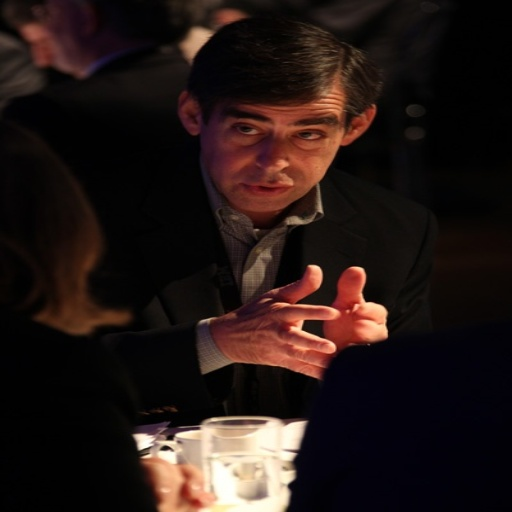hand: (213, 264, 343, 381), (300, 271, 400, 366), (139, 455, 220, 510)
